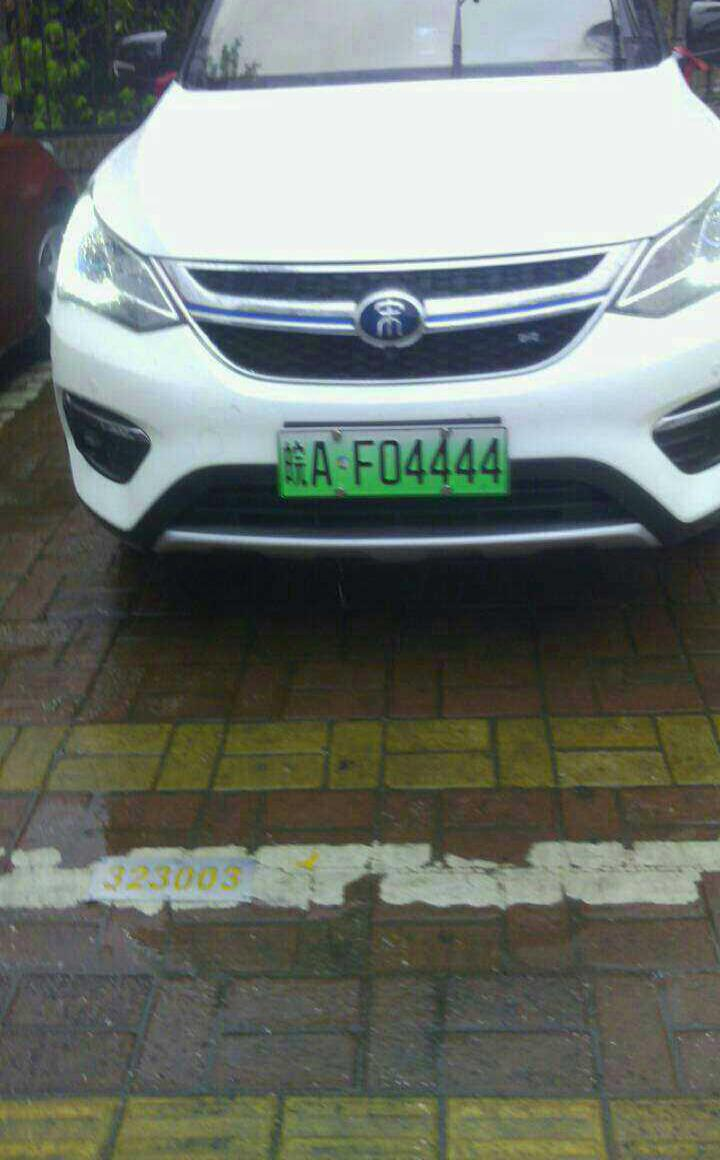car_green: (274, 428, 511, 502)
